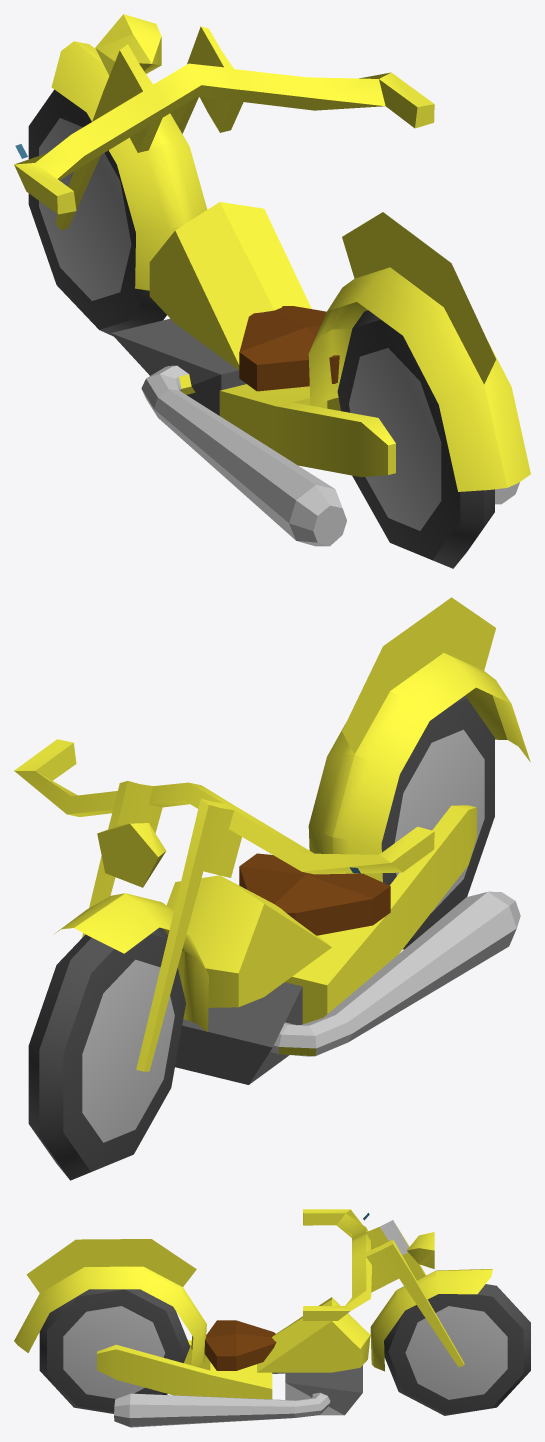
The model's file is moto.FBX.
3 views of the same model, one above another, from view 1: azimuth 30°, elevation 25°; view 2: azimuth 150°, elevation 25°; view 3: azimuth 270°, elevation 25° (orthographic). The views are drawn at different scales.
Parts seen in each view (by area): view 1: Mesh; view 2: Mesh; view 3: Mesh.
Boxes of the visible parts, left/top/right/bottom form: Mesh: left=14, top=14, right=530, bottom=568; Mesh: left=14, top=597, right=530, bottom=1180; Mesh: left=14, top=1209, right=530, bottom=1427.
Bounding box in the file's own units: 0.9321 × 0.7962 × 2.
